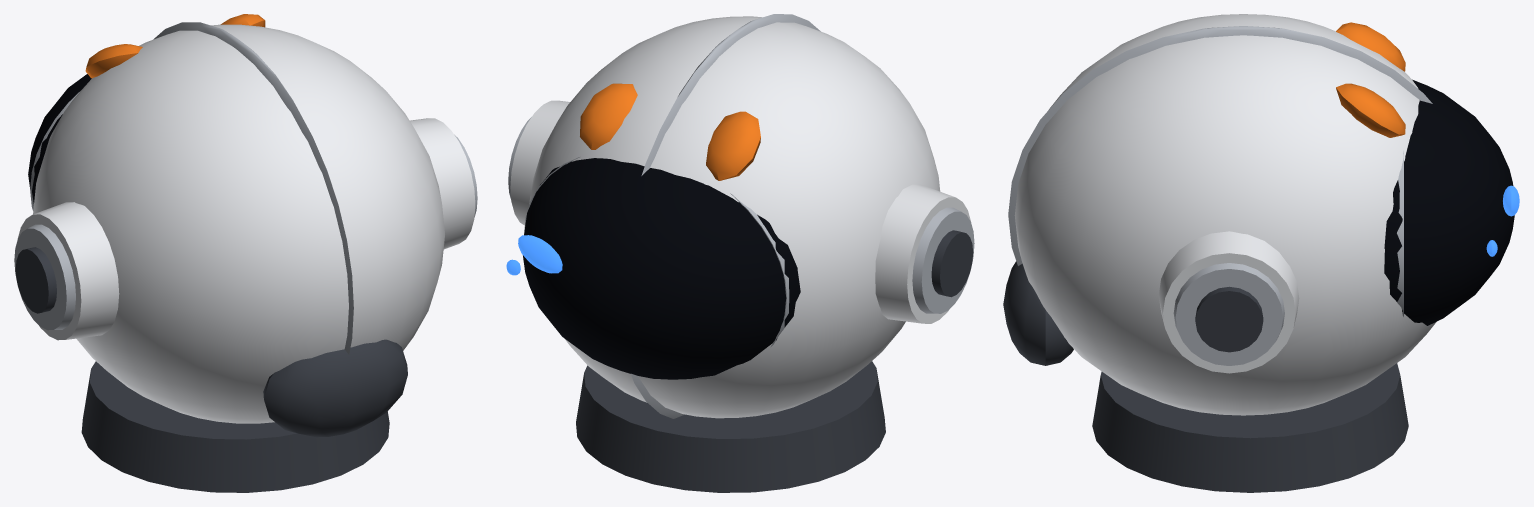
The model's file is helmet.glb.
The picture shows the model from 3 angles, left to right: view 1: azimuth 30°, elevation 25°; view 2: azimuth 150°, elevation 25°; view 3: azimuth 270°, elevation 25°; orthographic projection. The views are drawn at different scales.
Parts seen in each view (by area): view 1: Helmet_Suit_White, Helmet_Metal_Dark, Helmet_Suit_Grey, Helmet_Suit_Orange, Helmet_Visor; view 2: Helmet_Suit_White, Helmet_Visor, Helmet_Metal_Dark, Helmet_Suit_Grey, Helmet_Suit_Orange, Helmet_Visor_Glint; view 3: Helmet_Suit_White, Helmet_Metal_Dark, Helmet_Visor, Helmet_Suit_Grey, Helmet_Suit_Orange, Helmet_Visor_Glint.
Boxes of the visible parts, bbox=[...] form: Helmet_Suit_White: bbox=[17, 24, 475, 423]; Helmet_Metal_Dark: bbox=[15, 247, 407, 492]; Helmet_Suit_Grey: bbox=[14, 22, 477, 354]; Helmet_Suit_Orange: bbox=[85, 14, 265, 78]; Helmet_Visor: bbox=[28, 74, 91, 203]; Helmet_Suit_White: bbox=[510, 16, 971, 418]; Helmet_Visor: bbox=[523, 158, 800, 379]; Helmet_Metal_Dark: bbox=[576, 230, 973, 492]; Helmet_Suit_Grey: bbox=[508, 14, 974, 418]; Helmet_Suit_Orange: bbox=[580, 83, 760, 180]; Helmet_Visor_Glint: bbox=[506, 235, 562, 275]; Helmet_Suit_White: bbox=[1014, 14, 1436, 415]; Helmet_Metal_Dark: bbox=[1003, 261, 1408, 492]; Helmet_Visor: bbox=[1384, 79, 1514, 325]; Helmet_Suit_Grey: bbox=[1008, 26, 1432, 365]; Helmet_Suit_Orange: bbox=[1336, 22, 1405, 137]; Helmet_Visor_Glint: bbox=[1486, 185, 1519, 256].
Bounding box in the file's own units: 0.358 × 0.3125 × 0.3655.
